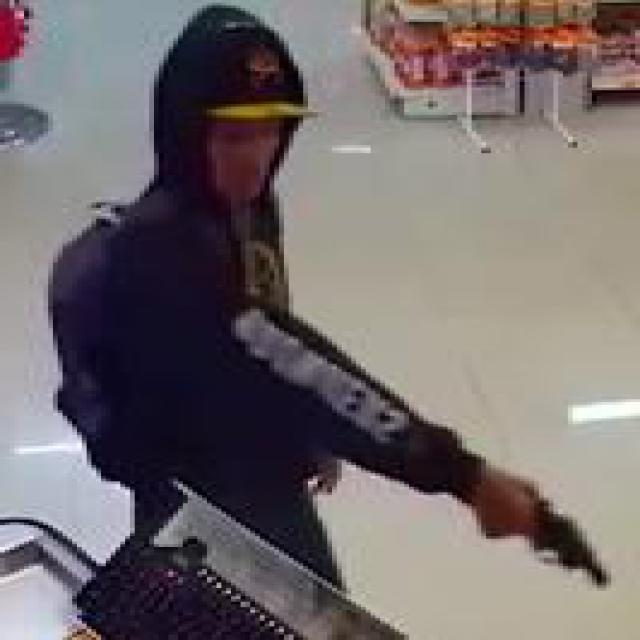Gun: (476, 478, 616, 586)
